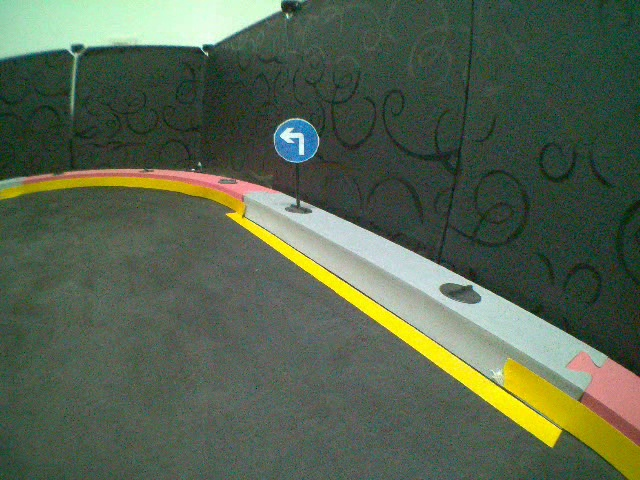turn: (270, 116, 322, 164)
